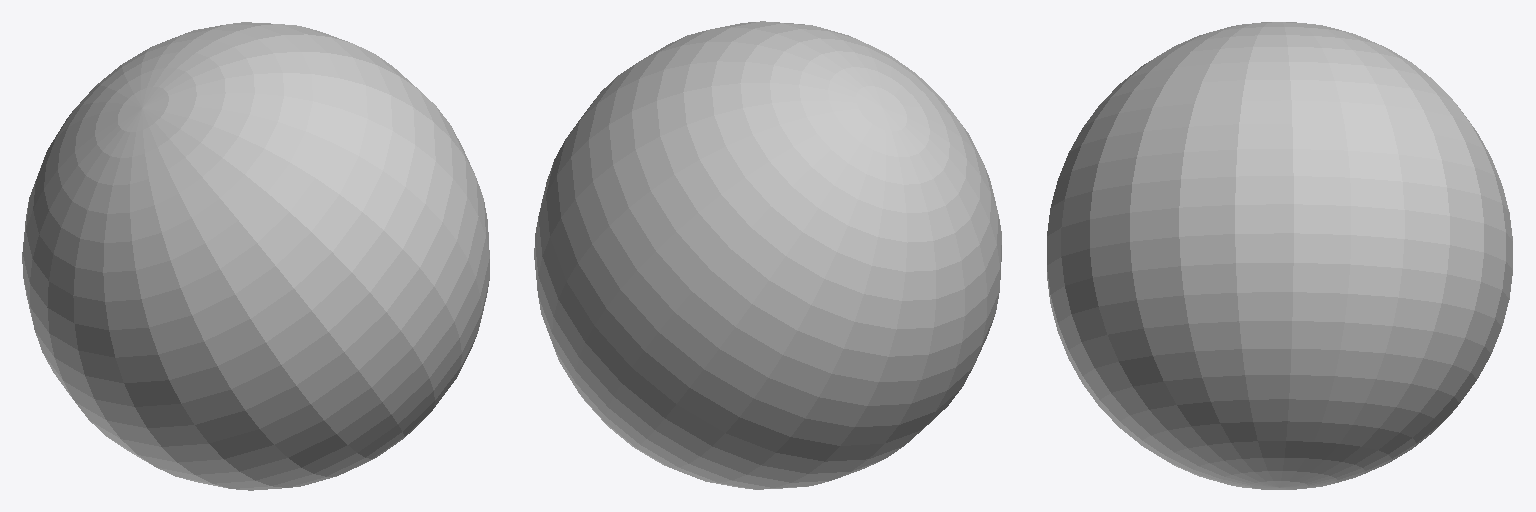
The model's file is CubeWITHAnim0005.obj.
The picture shows the model from 3 angles: view 1: azimuth 30°, elevation 25°; view 2: azimuth 150°, elevation 25°; view 3: azimuth 270°, elevation 25°; orthographic projection.
Parts seen in each view (by area): view 1: NEWJumpBall_Sphere; view 2: NEWJumpBall_Sphere; view 3: NEWJumpBall_Sphere.
Boxes of the visible parts, x1,y1,x2,y2 form: NEWJumpBall_Sphere: [22, 22, 489, 490]; NEWJumpBall_Sphere: [534, 21, 1001, 489]; NEWJumpBall_Sphere: [1047, 22, 1512, 489].
Bounding box in the file's own units: 2 × 2 × 1.99.